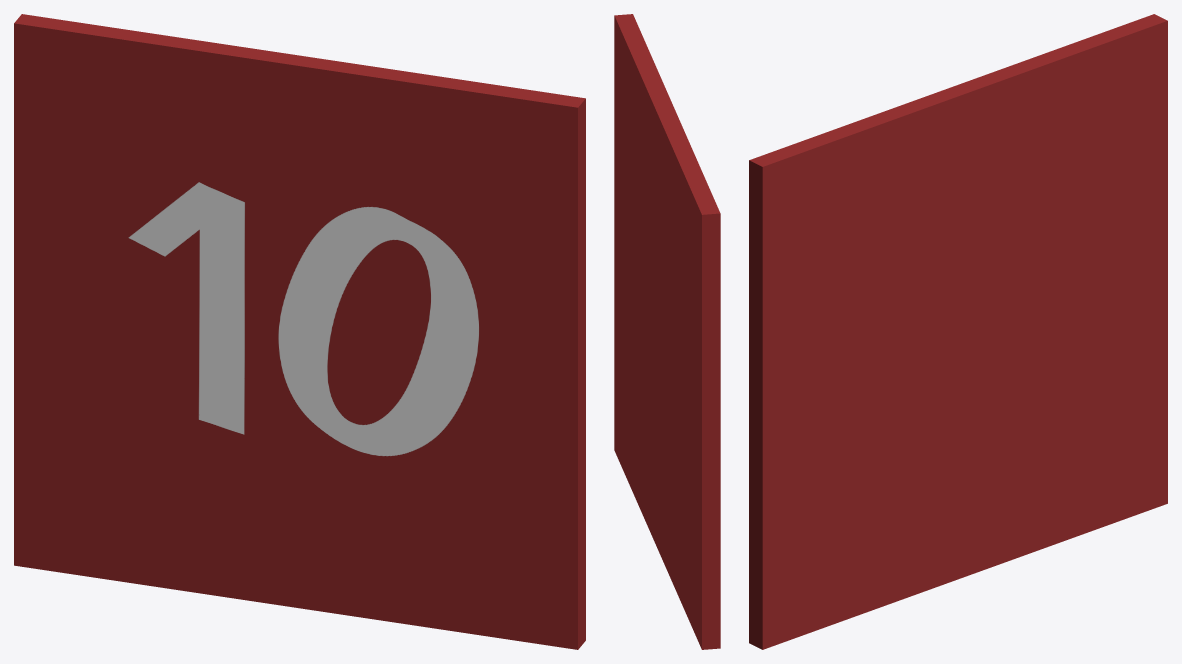
Rendered from flap09.glb.
The picture shows the model from 3 angles, left to right: view 1: azimuth 30°, elevation 25°; view 2: azimuth 150°, elevation 25°; view 3: azimuth 270°, elevation 25°; orthographic projection. The views are drawn at different scales.
Visible parts, largest first — view 1: flap.009; view 2: flap.009; view 3: flap.009.
Boxes of the visible parts, x1,y1,x2,y2 form: flap.009: [14, 14, 585, 649]; flap.009: [614, 14, 720, 649]; flap.009: [749, 14, 1167, 649].
Bounding box in the file's own units: 0.1699 × 0.25 × 0.1965.
1 material, 1 textured.
